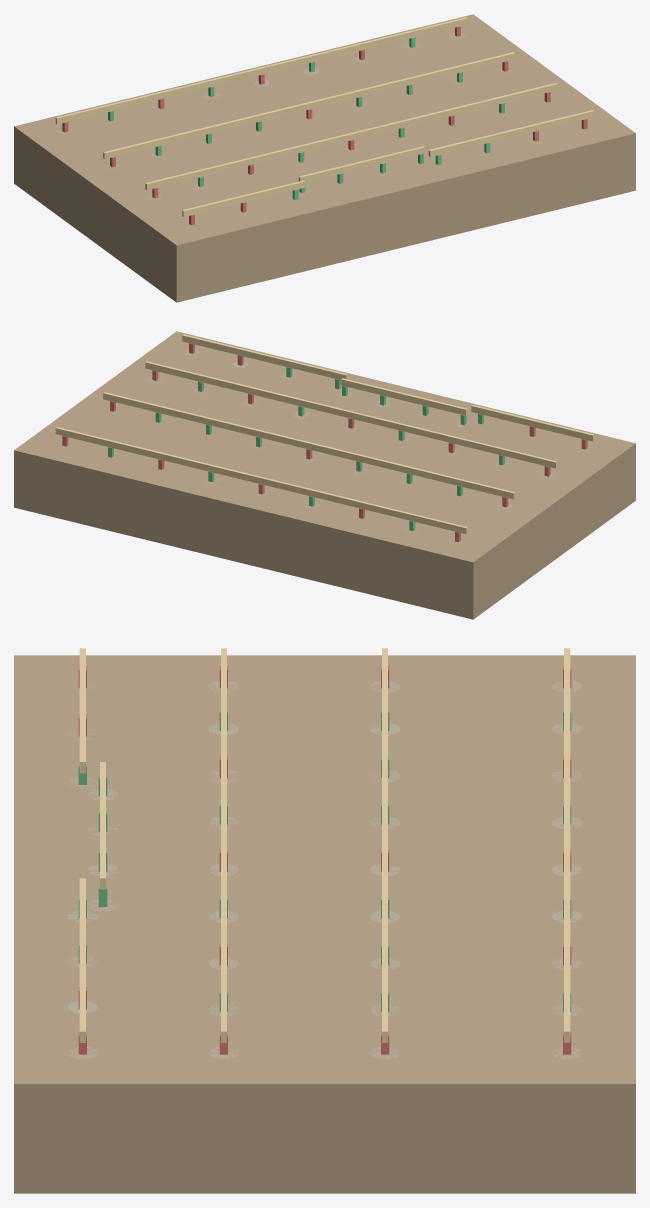
The picture shows the model from 3 angles, top to bottom: view 1: azimuth 30°, elevation 25°; view 2: azimuth 150°, elevation 25°; view 3: azimuth 270°, elevation 25°; orthographic projection. The views are drawn at different scales.
Parts seen in each view (by area): view 1: FD-L12-GND-01, __delivery_mesh_145, __delivery_mesh_147, __delivery_mesh_149, __delivery_mesh_152, __delivery_mesh_151, __delivery_mesh_150, FD-L12-BRG-B1-S1-L1, __delivery_mesh_148, __delivery_mesh_146; view 2: FD-L12-GND-01, __delivery_mesh_146, __delivery_mesh_148, FD-L12-BRG-B1-S1-L1, FD-L12-BRG-B4-S3-L1, FD-L12-BRG-B4-S2-L1, FD-L12-BRG-B4-S1-L1, __delivery_mesh_149, __delivery_mesh_147, __delivery_mesh_145; view 3: FD-L12-GND-01, FD-L12-BRG-B1-S1-L1, __delivery_mesh_145, __delivery_mesh_146, __delivery_mesh_147, __delivery_mesh_148, __delivery_mesh_149.
Boxes of the visible parts, x1,y1,x2,y2 form: FD-L12-GND-01: [14, 14, 635, 302]; __delivery_mesh_145: [56, 18, 467, 124]; __delivery_mesh_147: [104, 52, 515, 159]; __delivery_mesh_149: [146, 83, 557, 190]; __delivery_mesh_152: [429, 110, 594, 156]; __delivery_mesh_151: [299, 147, 424, 182]; __delivery_mesh_150: [183, 181, 305, 216]; FD-L12-BRG-B1-S1-L1: [55, 17, 466, 123]; __delivery_mesh_148: [145, 83, 556, 189]; __delivery_mesh_146: [103, 52, 513, 158]; FD-L12-GND-01: [14, 331, 635, 619]; __delivery_mesh_146: [103, 392, 514, 499]; __delivery_mesh_148: [145, 362, 556, 468]; FD-L12-BRG-B1-S1-L1: [55, 427, 466, 533]; FD-L12-BRG-B4-S3-L1: [182, 335, 347, 379]; FD-L12-BRG-B4-S2-L1: [341, 379, 466, 415]; FD-L12-BRG-B4-S1-L1: [471, 405, 593, 441]; __delivery_mesh_149: [146, 361, 557, 467]; __delivery_mesh_147: [104, 392, 515, 498]; __delivery_mesh_145: [56, 427, 467, 533]; FD-L12-GND-01: [14, 655, 635, 1193]; FD-L12-BRG-B1-S1-L1: [567, 648, 570, 1042]; __delivery_mesh_145: [564, 648, 566, 1042]; __delivery_mesh_146: [385, 648, 387, 1042]; __delivery_mesh_147: [382, 648, 384, 1042]; __delivery_mesh_148: [224, 648, 226, 1042]; __delivery_mesh_149: [221, 648, 223, 1042].
Size of the model in its own units: 15.1 by 2.29 by 9.26.
